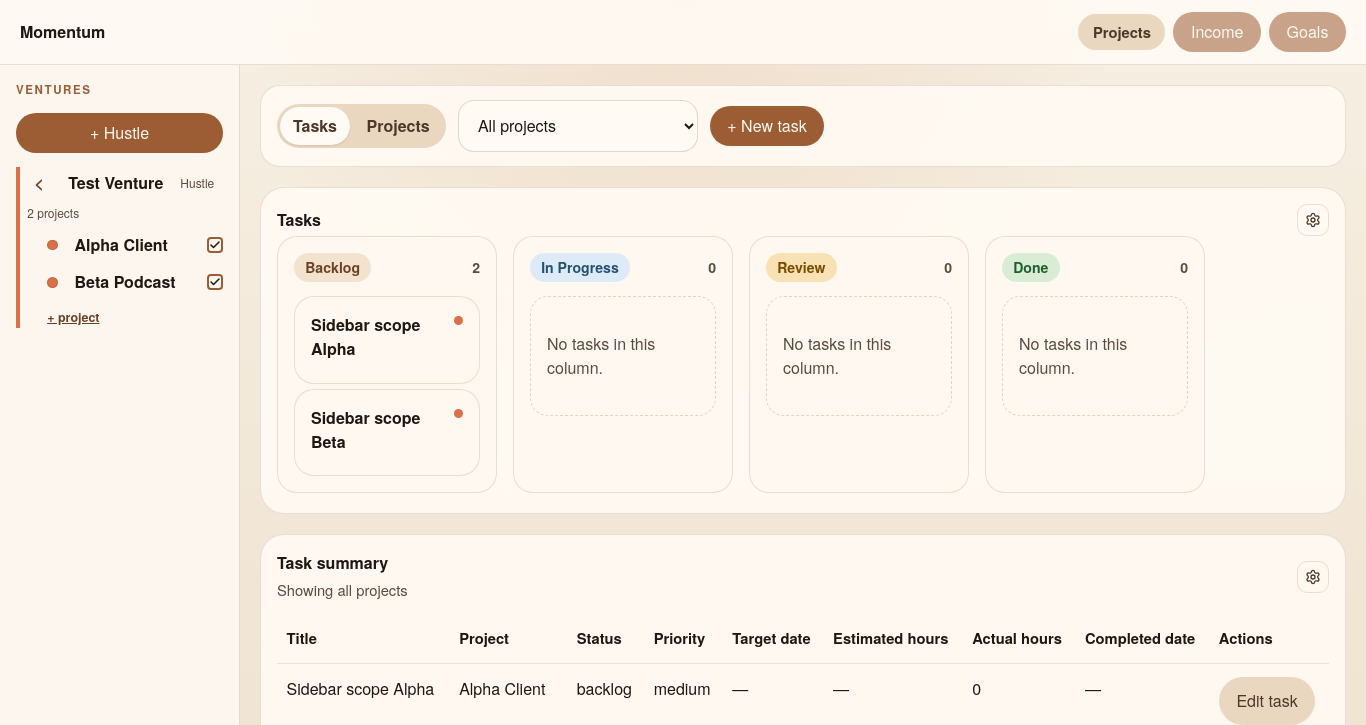
Test: Ticket 1.6-10 — Project Kanban Board and Project Type Filter › scopes Project Kanban to sidebar-checked projects mirroring Task Kanban
Expected: the button "Sidebar scope Beta" is shown, [311,406,449,454]
What coordinates should you click on to do the following:
click the tab "Projects"
I would click on:
 (398, 126)
Its box is [354,107,442,145].
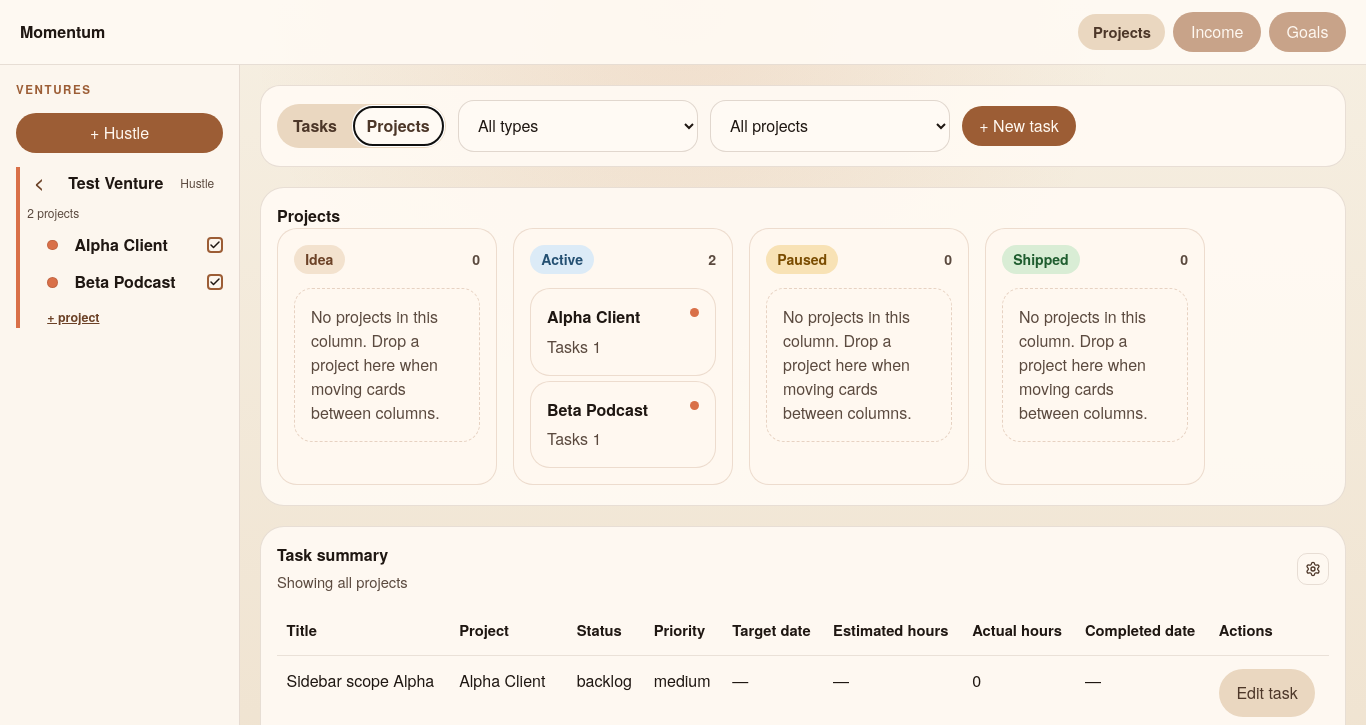
Now the button with test id "kanban-project-title" below "Active" is shown, box [547,305,640,329]
What coordinates should you click on to do the following:
click the checkbox named "Alpha Client"
I would click on:
 (215, 245)
Its box is [207,237,223,253].
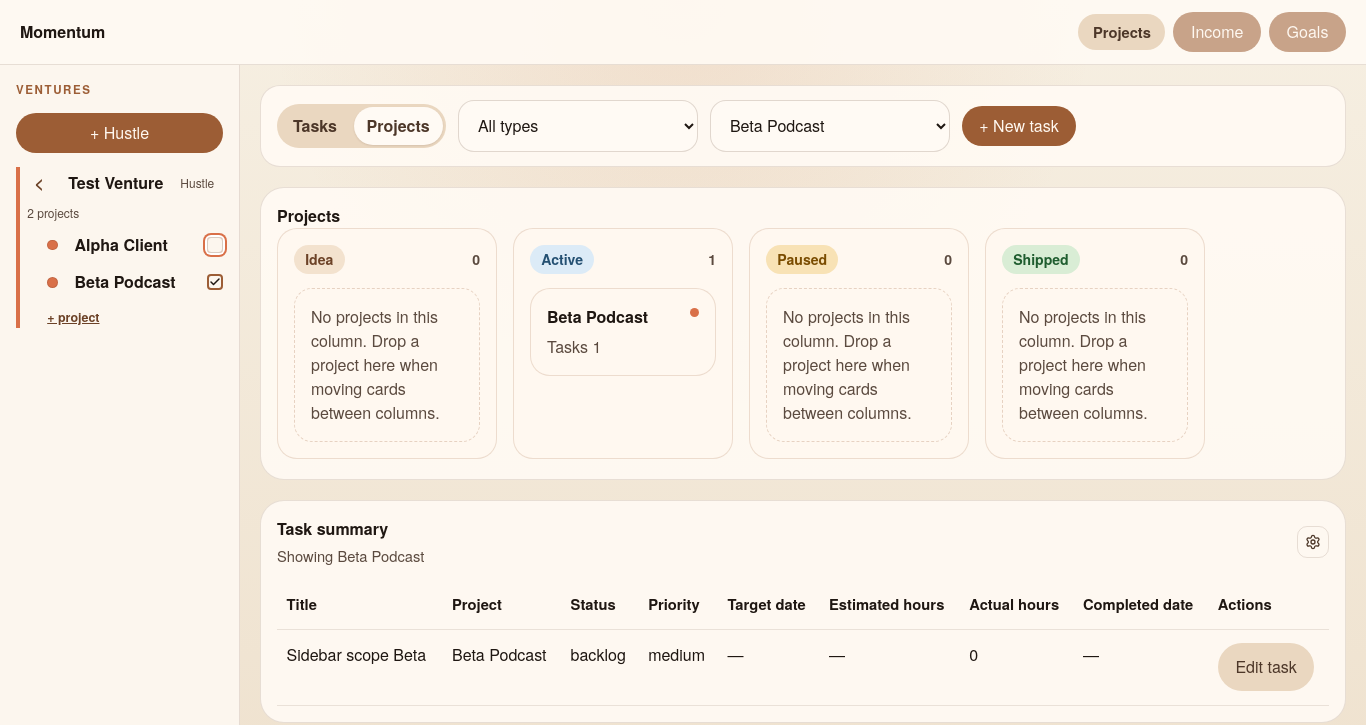
What coordinates should you click on to do the following:
click the tab "Tasks"
I would click on:
 (315, 126)
Its box is [280,107,350,145].
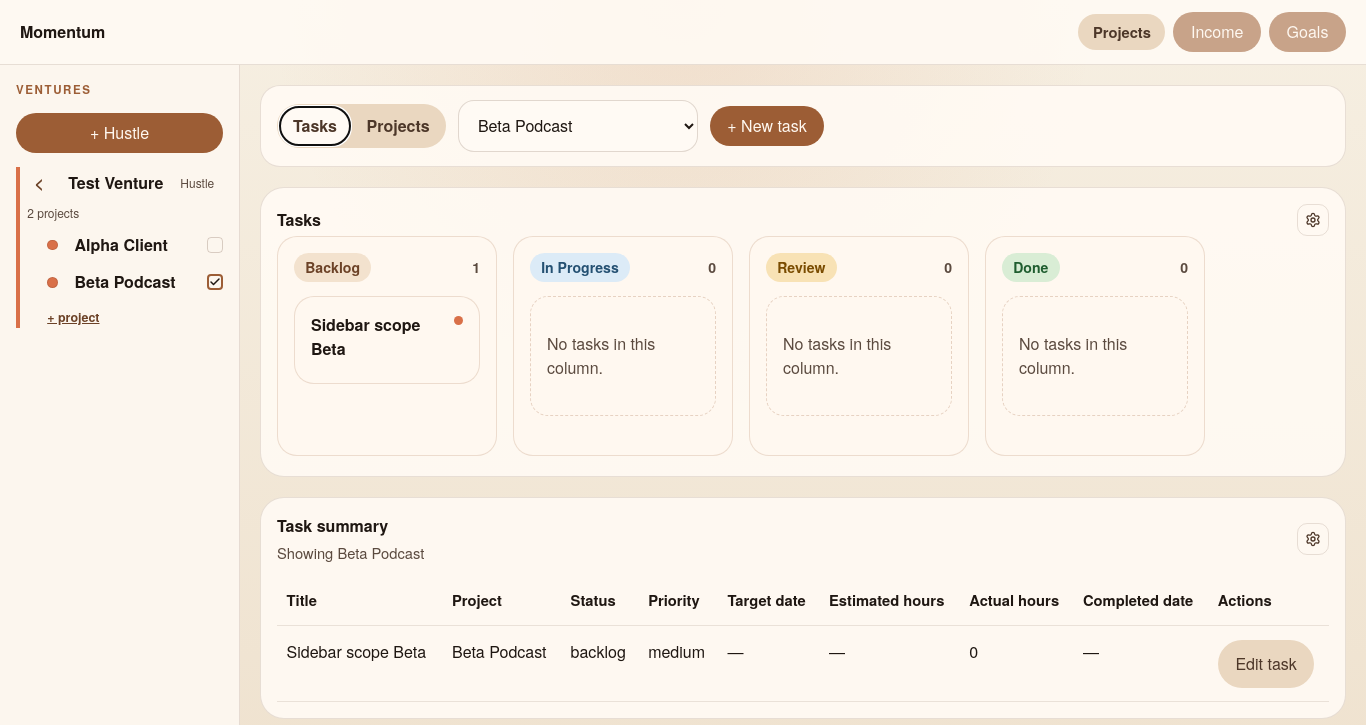
Expected: the text "Sidebar scope Alpha" is not shown
What coordinates should you click on to do the following:
click the tab "Projects"
I would click on:
 (398, 126)
Its box is [354,107,442,145].
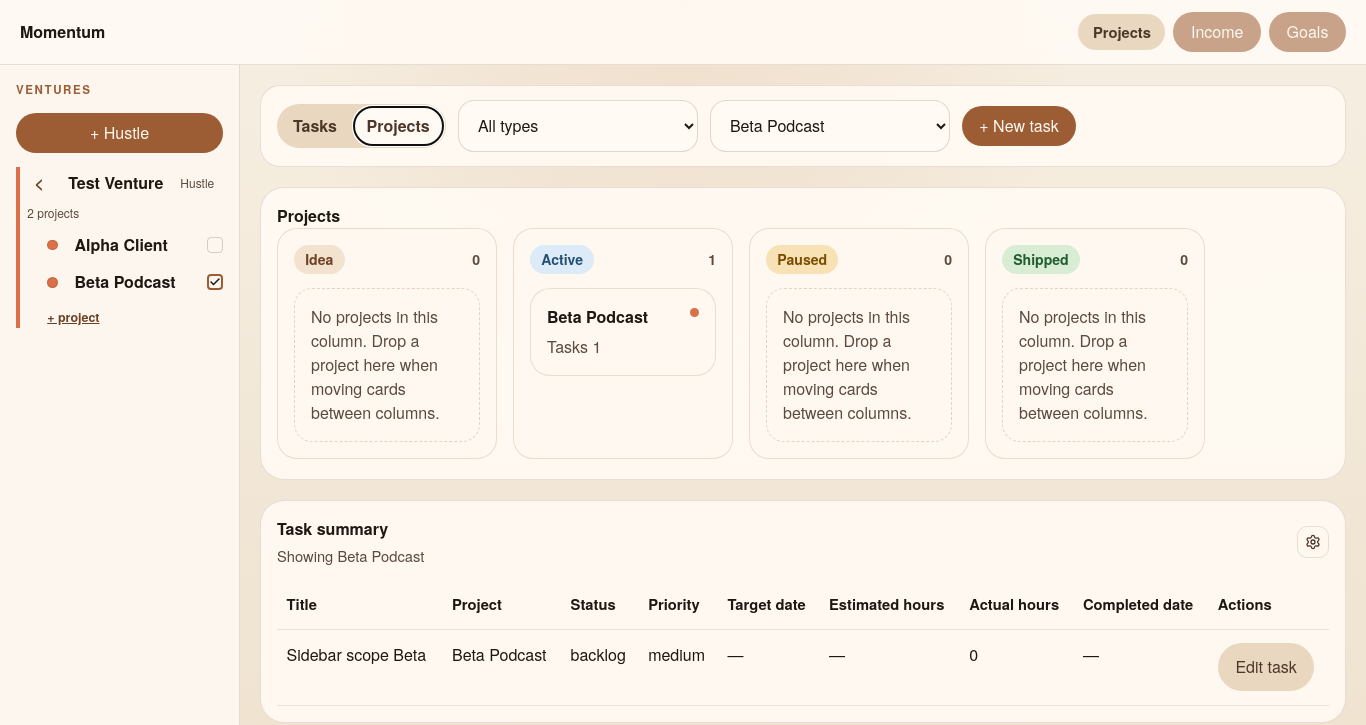
Now the button with test id "kanban-project-title" is shown, box [547,305,648,329]
